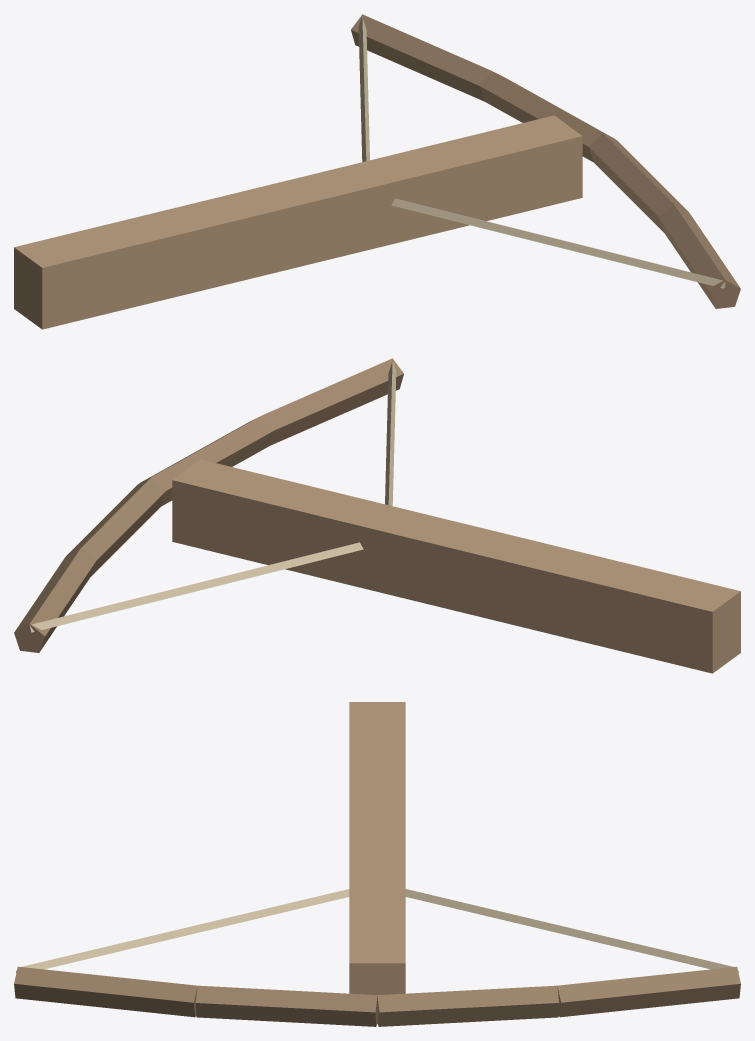
The model's file is held_weapon_crossbow.glb.
3 views of the same model, one above another, from view 1: azimuth 30°, elevation 25°; view 2: azimuth 150°, elevation 25°; view 3: azimuth 270°, elevation 25° (orthographic).
Visible parts, largest first — view 1: held_weapon_crossbow; view 2: held_weapon_crossbow; view 3: held_weapon_crossbow.
Boxes of the visible parts, <box> form: held_weapon_crossbow: <box>14,14,740,329</box>; held_weapon_crossbow: <box>14,358,740,673</box>; held_weapon_crossbow: <box>14,702,740,1026</box>.
Bounding box in the file's own units: 0.5992 × 0.06 × 0.6469.
